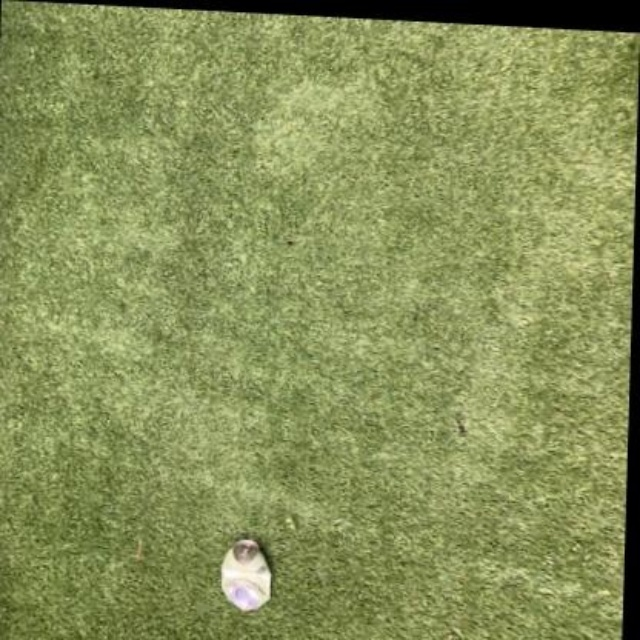trash: (222, 540, 269, 609)
